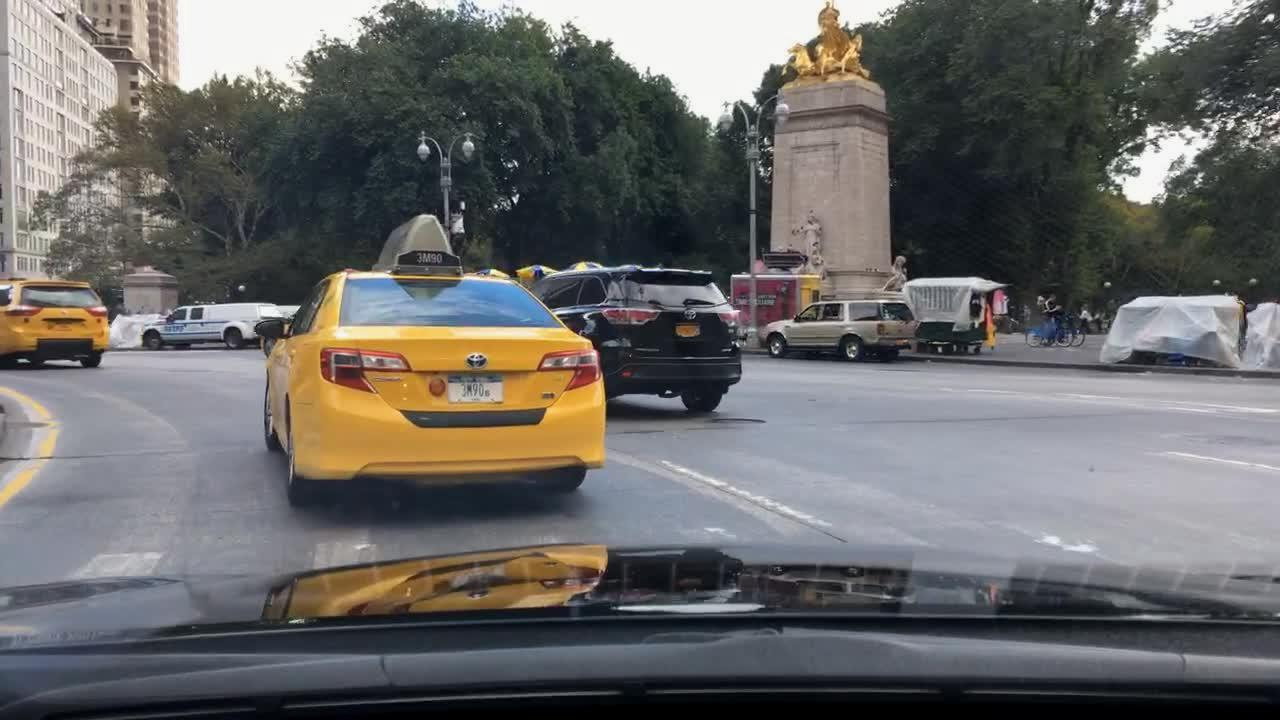Toyota: (463, 349, 493, 372), (683, 307, 697, 323)
